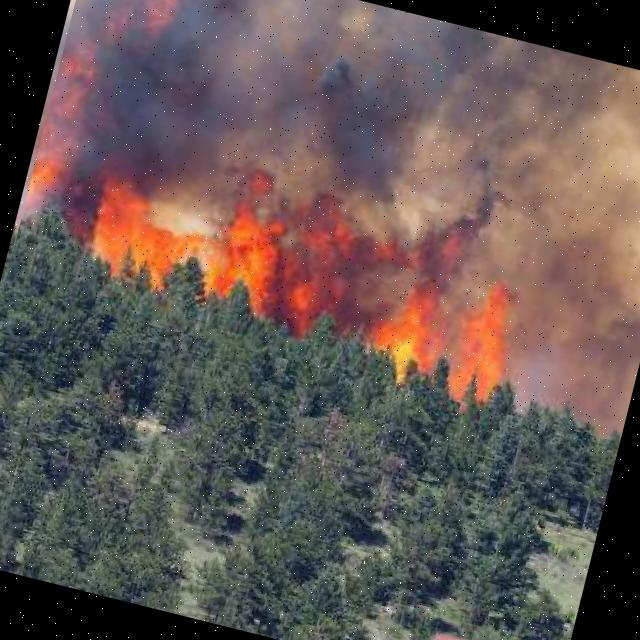fire: (3, 0, 640, 442)
